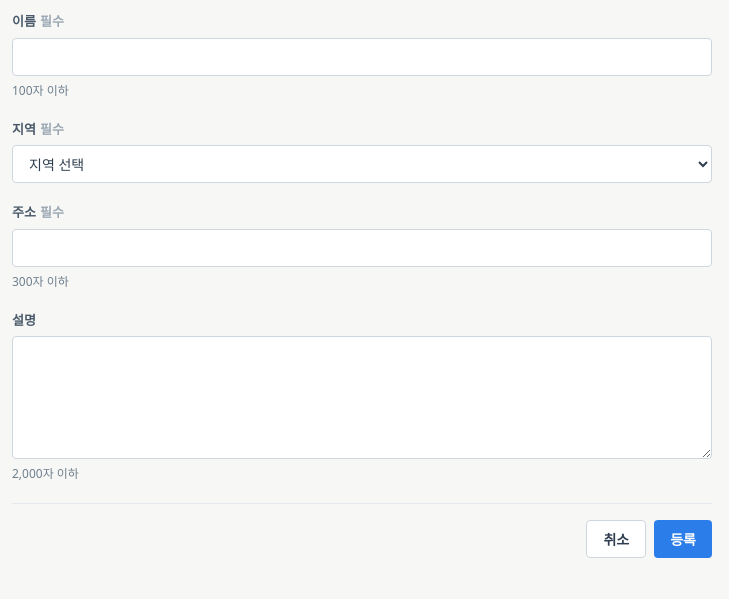
W08 H2 몫. 화면 검사가 서버보다 먼저 › 고치면 그 필드의 문구가 사라진다
Click the button "등록". click: click(683, 539)
box: 654,520 -> 712,558
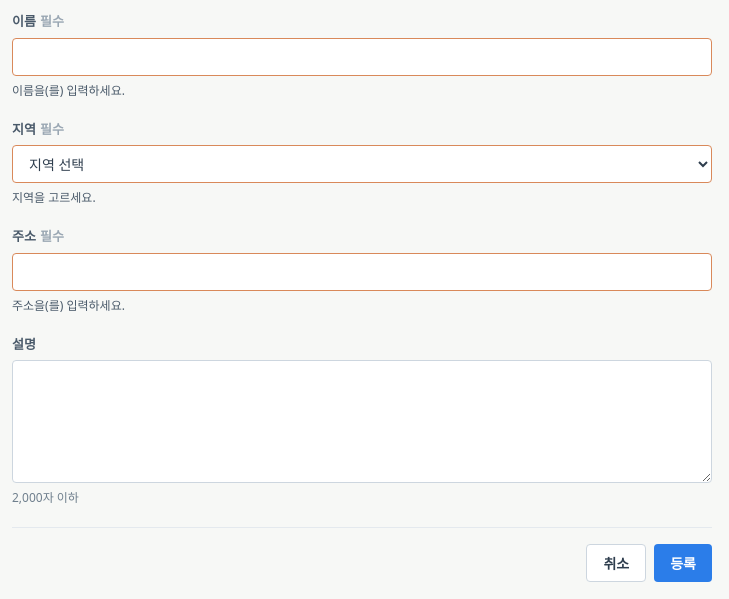
Type "한강 뷰" into the field labelled "이름". click: (362, 56)
box: 12,38 -> 712,76
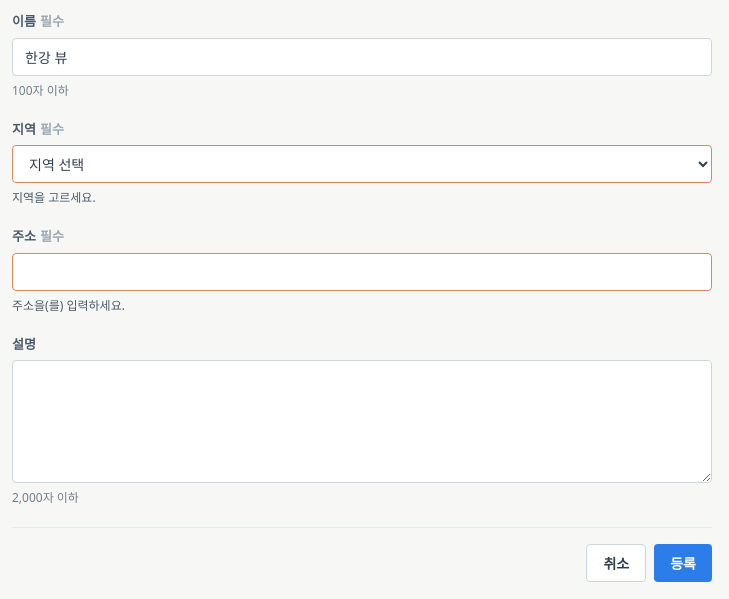
Check: the text "지역을 고르세요." is shown, box 12,189 -> 96,206
Check: the text "이름을(를) 입력하세요." is gone
